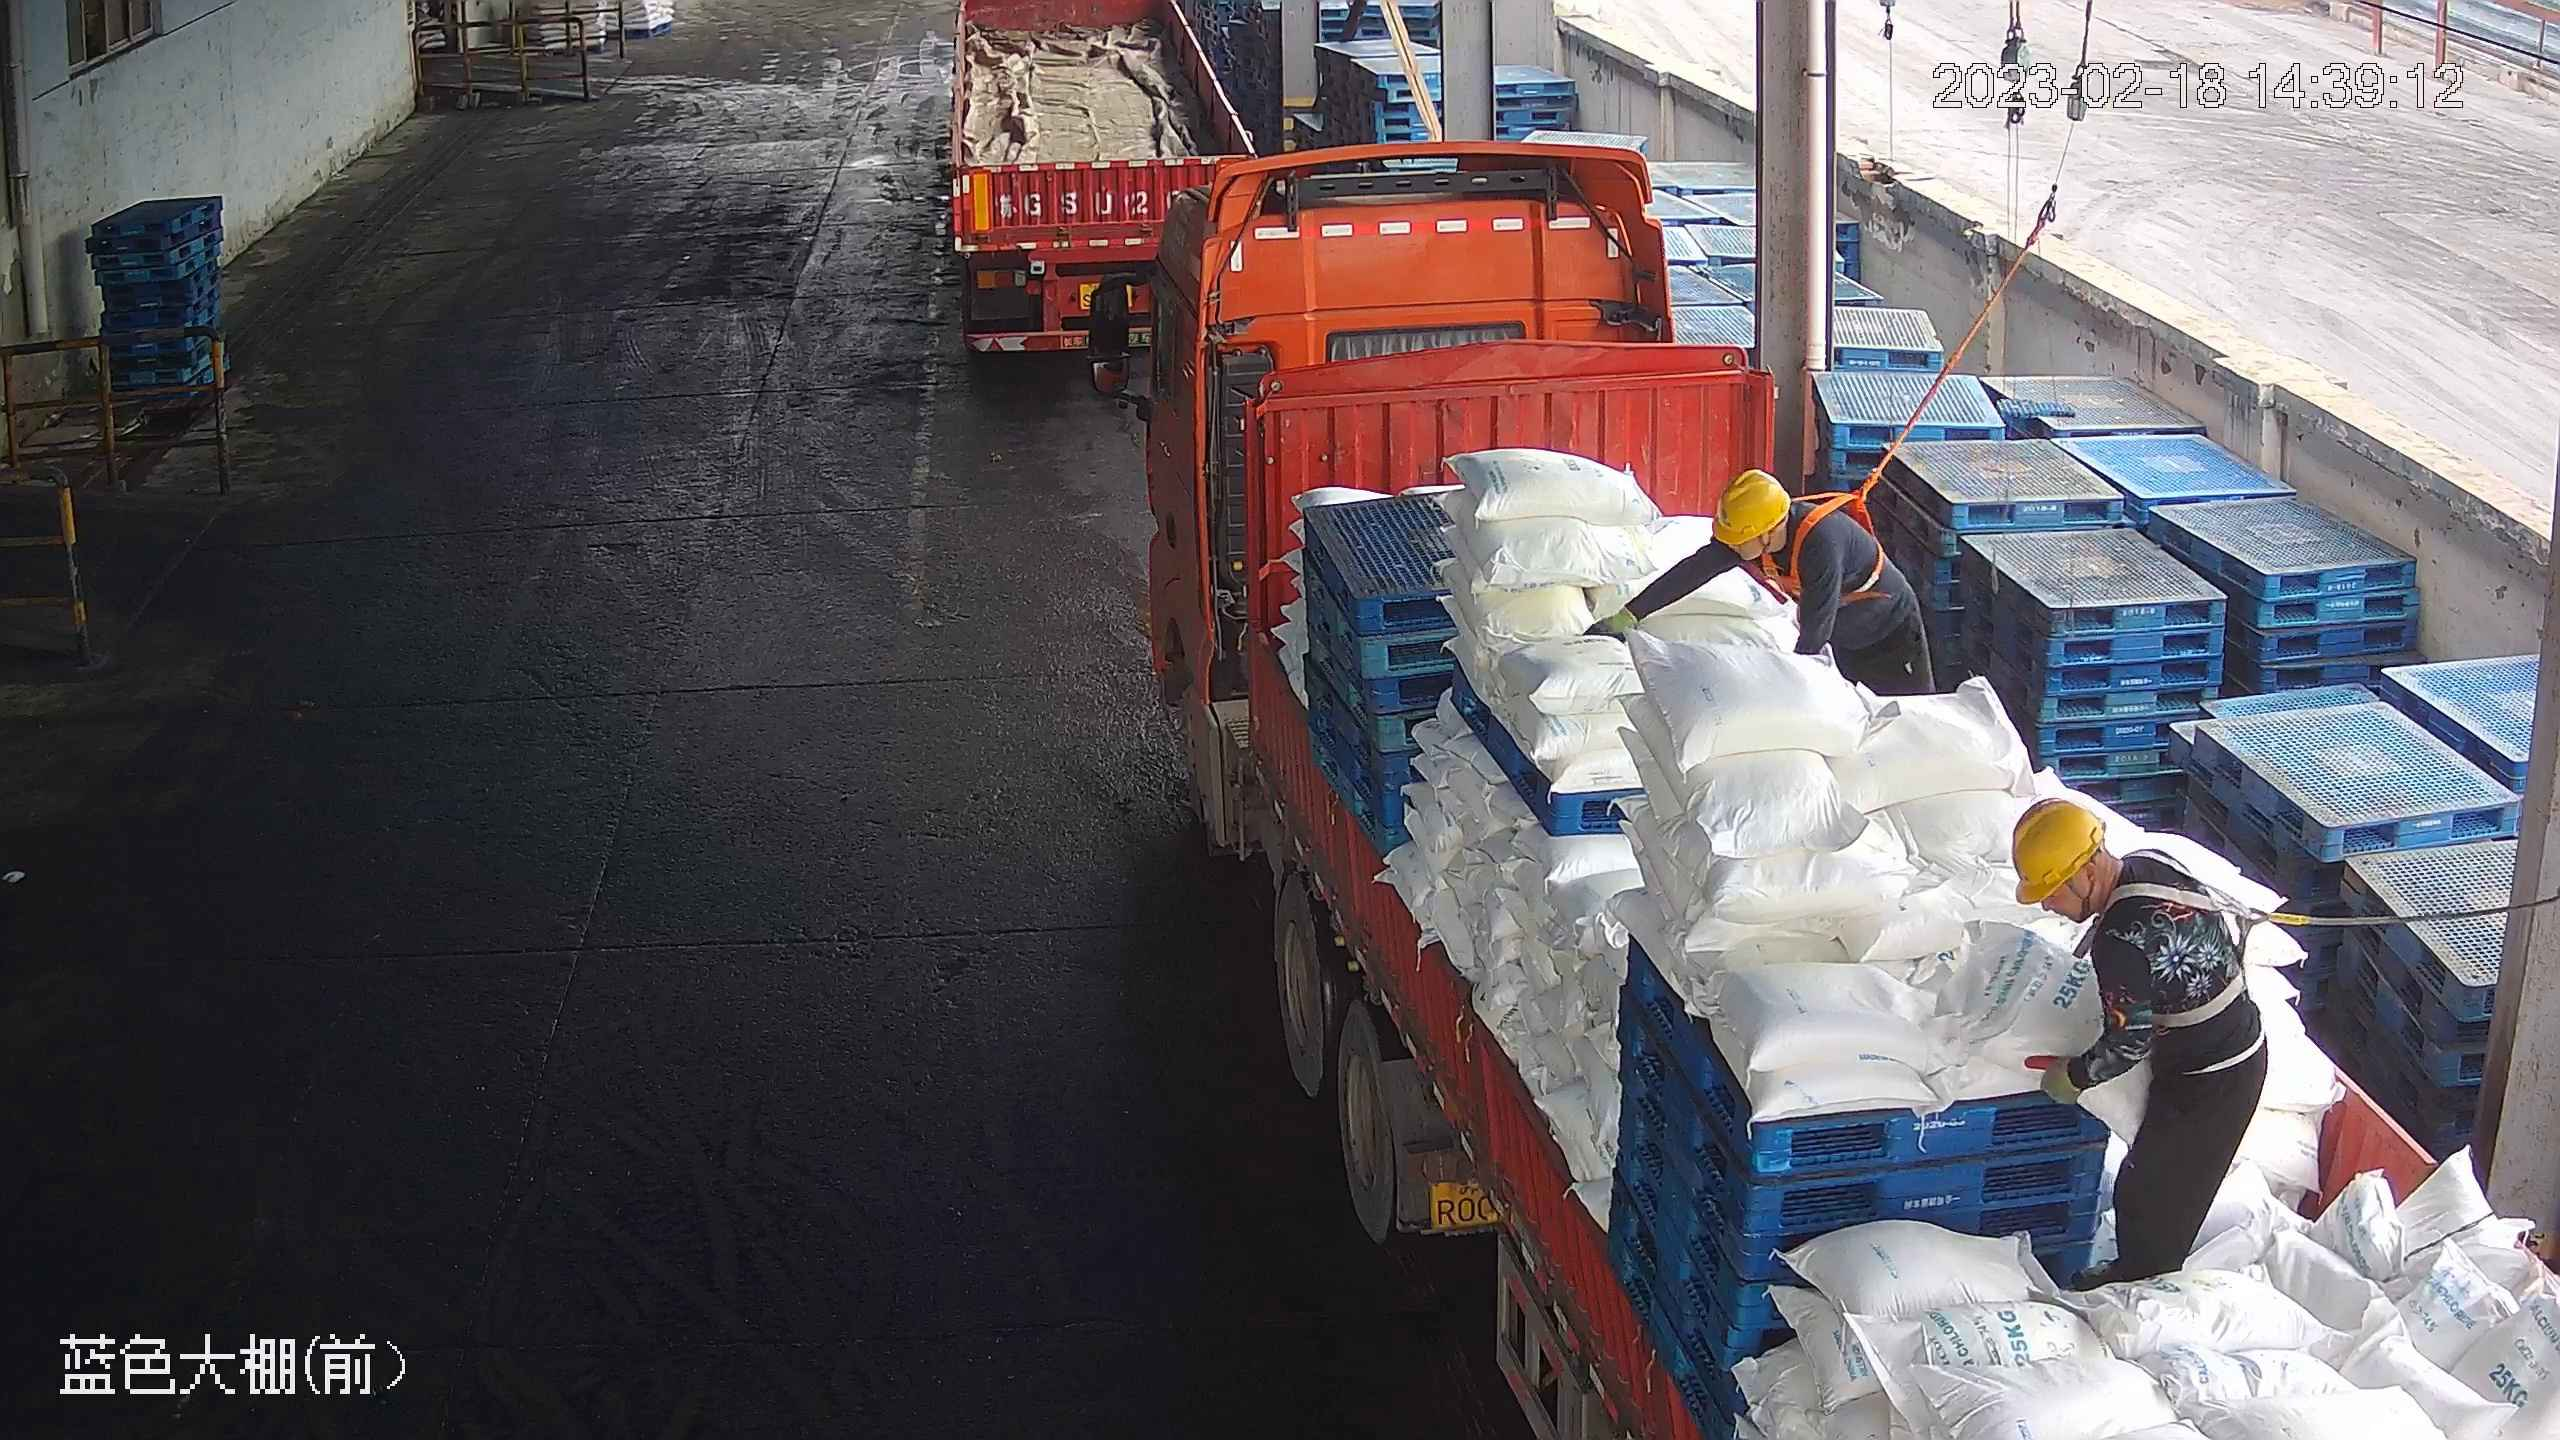belt: (2104, 871, 2286, 1038), (1776, 478, 1891, 602)
head: (2010, 797, 2230, 985), (1707, 466, 1860, 599)
helmet: (2010, 796, 2108, 903), (1709, 467, 1789, 545)
people: (2010, 798, 2277, 1302), (1587, 465, 1939, 707)
truck: (1075, 153, 2547, 1436), (939, 8, 1255, 362)
